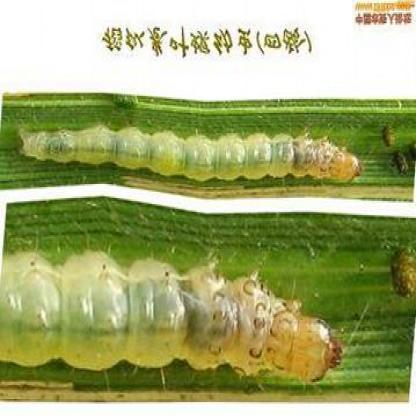leaf-folder: (35, 248, 362, 388), (16, 117, 414, 187)
